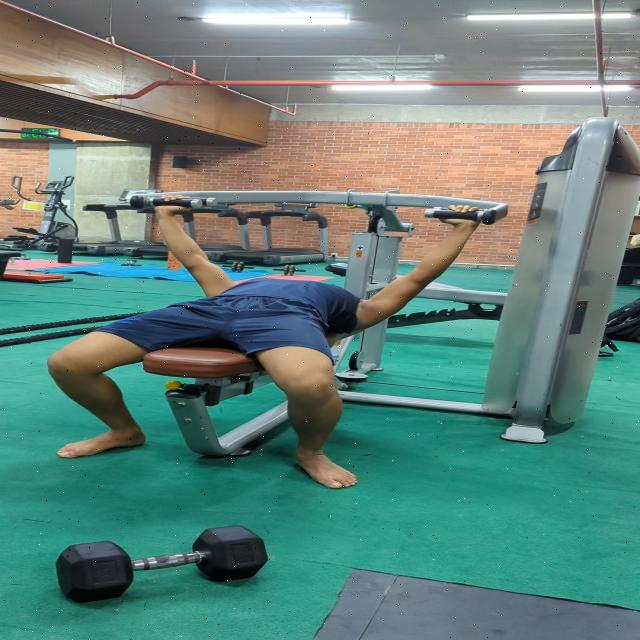Normal_BrenchPress: (0, 194, 502, 481)
